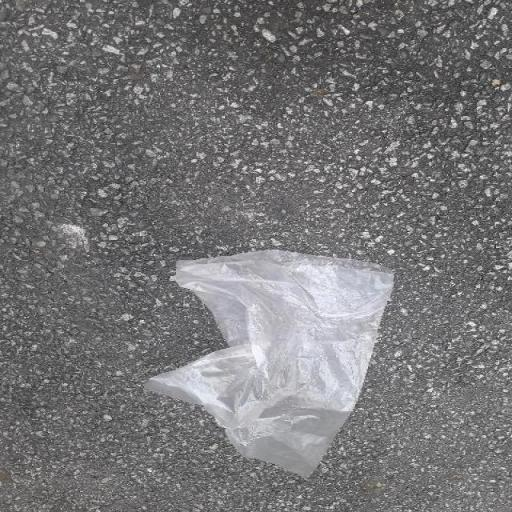plastic-bag: (141, 246, 400, 482)
